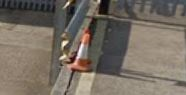cone: (67, 30, 96, 72)
